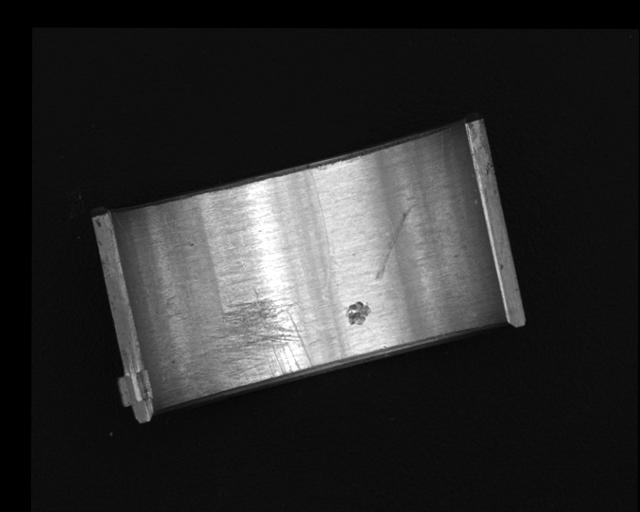bruise: (346, 301, 371, 325)
nick: (309, 167, 332, 298), (375, 205, 411, 280)
scratch: (193, 288, 315, 398)
